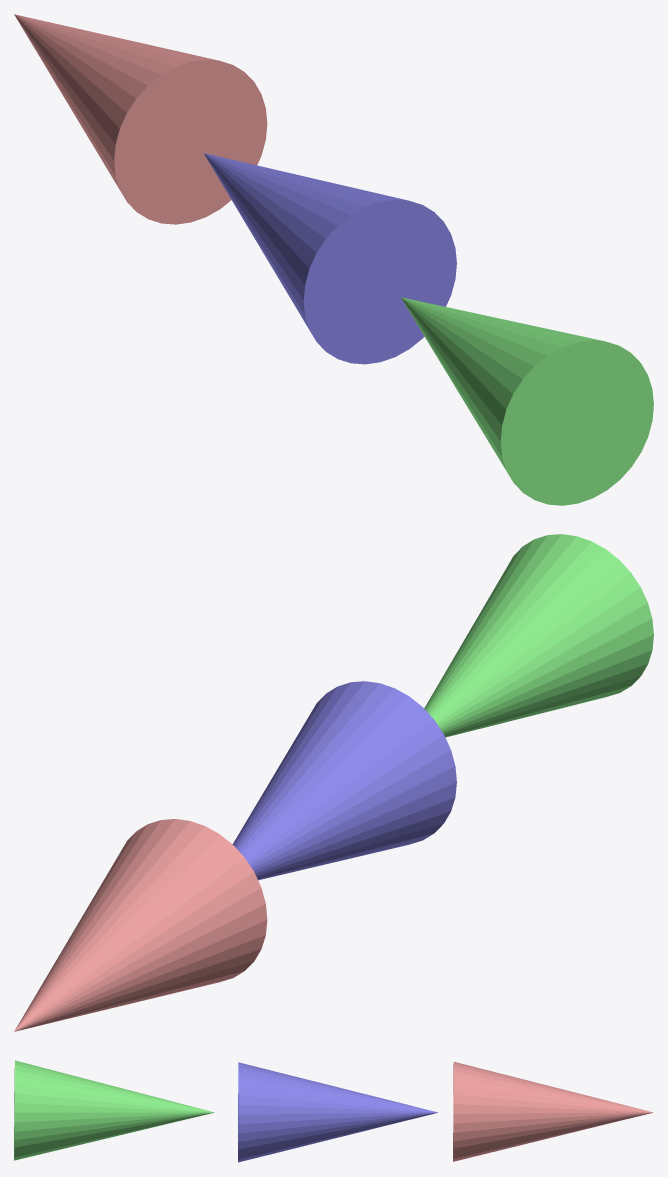
The model's file is sausage3.dae.
The picture shows the model from 3 angles, top to bottom: view 1: azimuth 30°, elevation 25°; view 2: azimuth 150°, elevation 25°; view 3: azimuth 270°, elevation 25°; orthographic projection. The views are drawn at different scales.
Visible parts, largest first — view 1: Cone0, Cone1, Cone2; view 2: Cone2, Cone0, Cone1; view 3: Cone0, Cone2, Cone1.
Part boxes in pixels (left/top/right/bottom): Cone0: left=401, top=297, right=653, bottom=505; Cone1: left=203, top=153, right=456, bottom=364; Cone2: left=14, top=14, right=267, bottom=224; Cone2: left=14, top=819, right=267, bottom=1031; Cone0: left=424, top=534, right=653, bottom=737; Cone1: left=232, top=681, right=456, bottom=880; Cone0: left=14, top=1060, right=214, bottom=1160; Cone2: left=453, top=1061, right=653, bottom=1161; Cone1: left=238, top=1062, right=437, bottom=1162.
Size of the model in its own units: 2 by 12.76 by 2.04.
